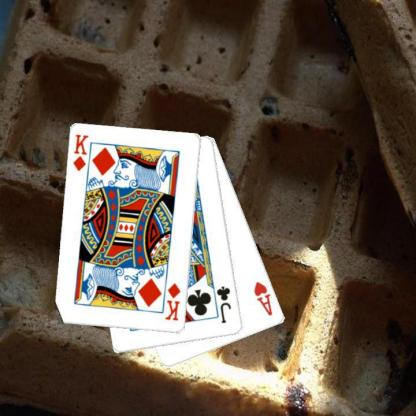AH: (251, 279, 274, 317)
JC: (214, 284, 233, 324)
KD: (162, 280, 182, 323), (70, 132, 90, 172)
